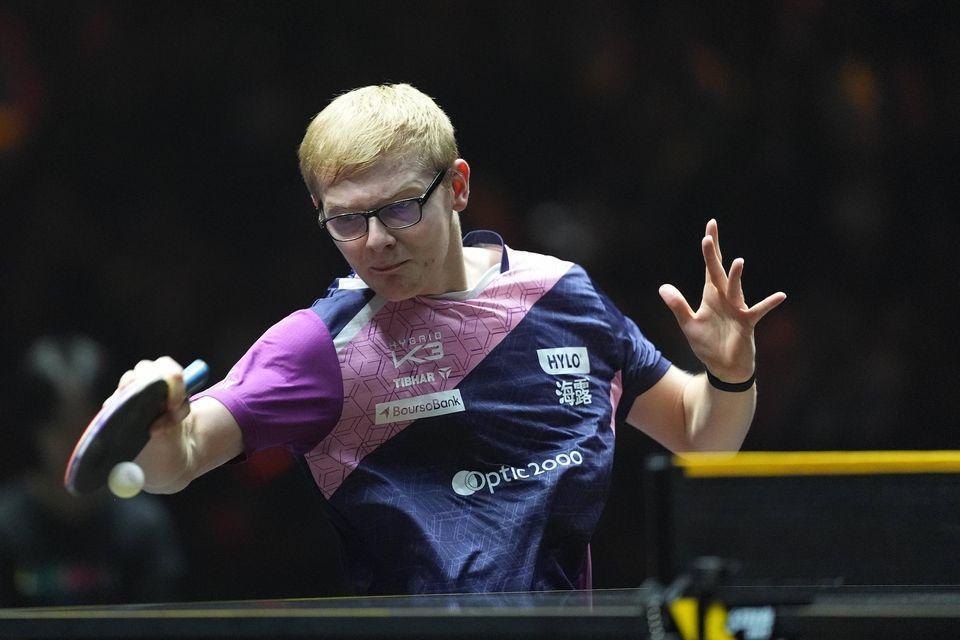ball_pingpong: (106, 464, 145, 499)
